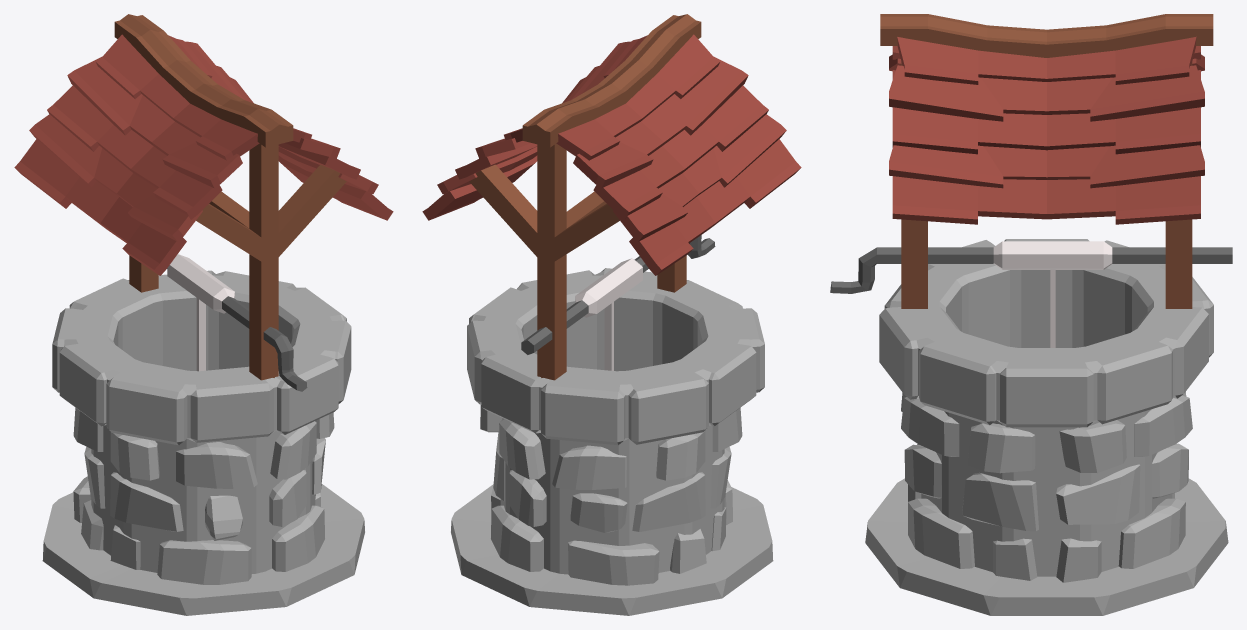
The model's file is Well.glb.
3 renders of one model, left to right at view 1: azimuth 30°, elevation 25°; view 2: azimuth 150°, elevation 25°; view 3: azimuth 270°, elevation 25°, orthographic. The views are drawn at different scales.
Parts seen in each view (by area): view 1: Well; view 2: Well; view 3: Well.
Part boxes in pixels (x1,y1,x2,y2): Well: [14, 14, 393, 615]; Well: [422, 14, 801, 615]; Well: [830, 14, 1232, 615].
Bounding box in the file's own units: 1.28 × 2.15 × 1.49.
